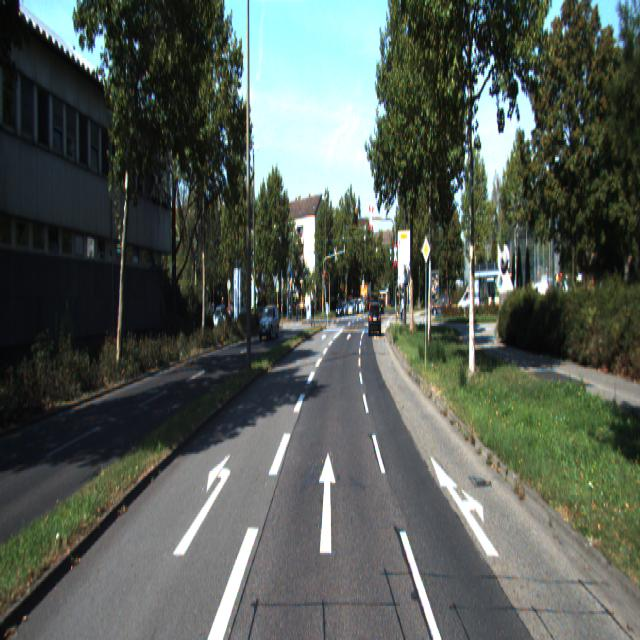Car: (258, 304, 280, 341), (369, 301, 381, 337)
